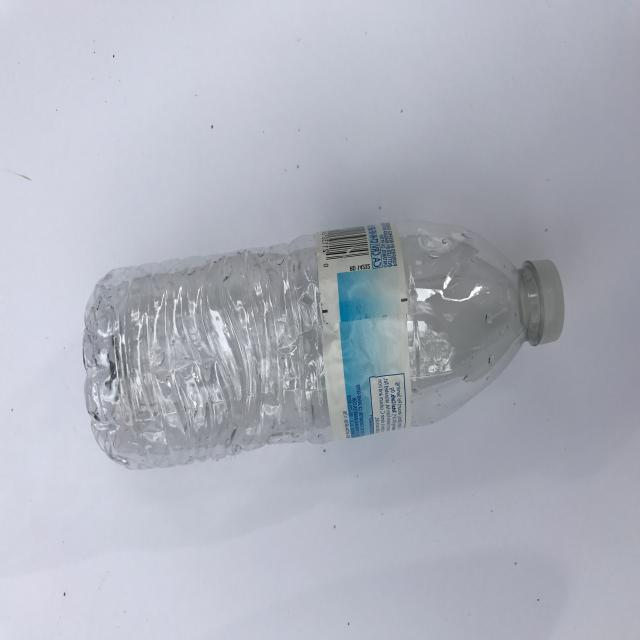plastic: (82, 219, 565, 470)
